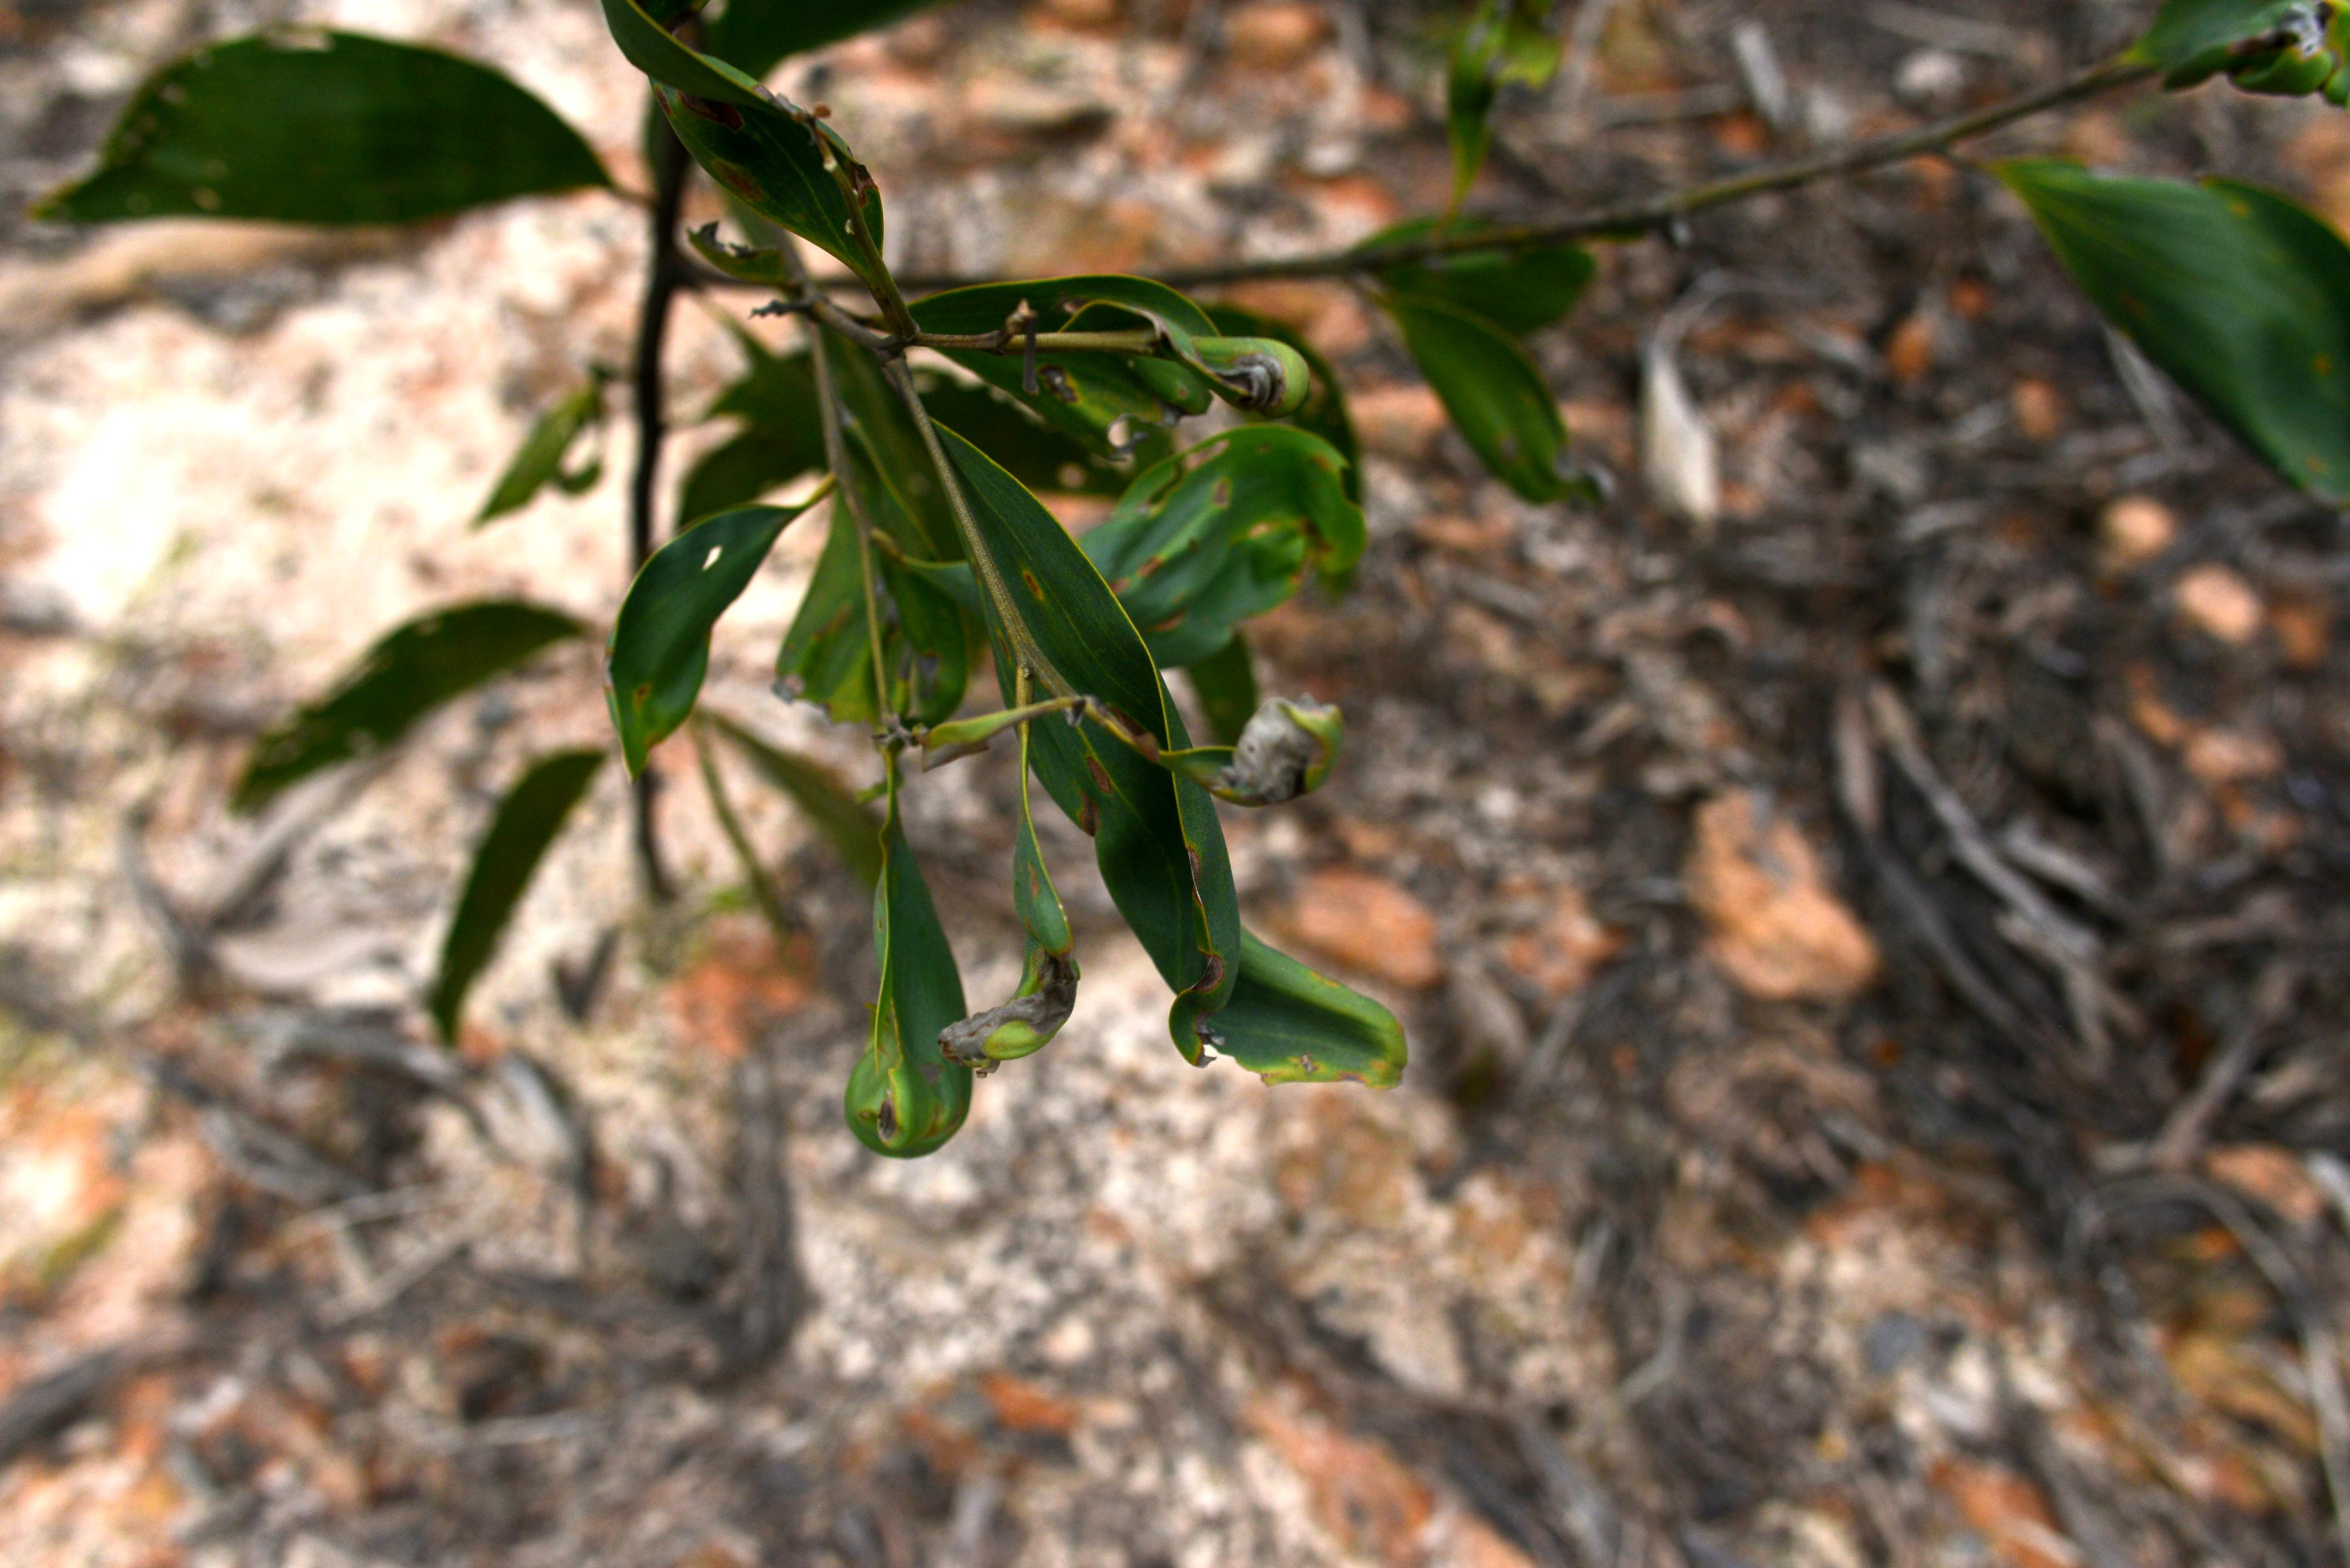Pasalora: (936, 446, 1424, 1095), (600, 2, 927, 332), (607, 476, 828, 789), (1038, 616, 1389, 803), (1090, 425, 1374, 646), (952, 758, 1092, 1080), (805, 933, 996, 1160), (1071, 262, 1305, 443), (786, 436, 850, 703)
